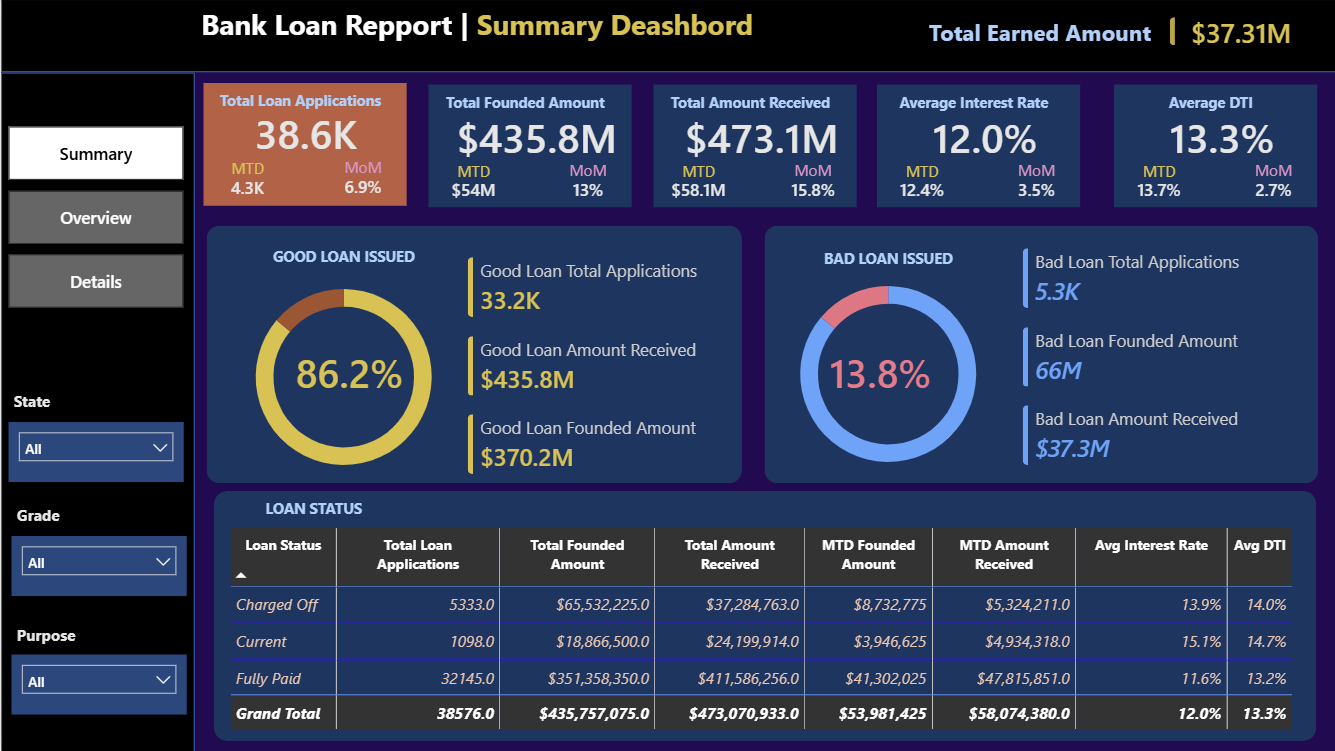

What the dashboard file says about the page in this screenshot:
{"tool":"powerbi","page":{"name":"Summary","canvas":[1280,720],"ordinal":0},"visuals":[{"type":"shape","box":[0,0,1280,70],"z":0},{"type":"shape","box":[194.3,80.5,194.3,117.2],"z":0,"group":"g4"},{"type":"shape","box":[408.3,81.1,194.3,117.2],"z":0,"group":"g1"},{"type":"shape","box":[623.8,81.1,194.3,117.2],"z":0,"group":"g2"},{"type":"shape","box":[837.2,81.1,194.3,117.2],"z":0,"group":"g5"},{"type":"shape","box":[1063.8,81.1,194.3,117.2],"z":0,"group":"g3"},{"type":"shape","box":[0,70,185,650],"z":1000},{"type":"cardVisual","fields":{"Data":["Loan Mesures.Total Loan Amount"]},"box":[397.8,89.1,227,79],"z":1000,"group":"g1"},{"type":"cardVisual","fields":{"Data":["Loan Mesures.Total Amount Received"]},"box":[613.3,89.1,227,79],"z":1000,"group":"g2"},{"type":"cardVisual","fields":{"Data":["Loan Mesures.Avg Interest Rate"]},"box":[826.7,89.1,227,79],"z":1000,"group":"g5"},{"type":"cardVisual","fields":{"Data":["Loan Mesures.Avg DTI"]},"box":[1053.3,89.1,227,79],"z":1000,"group":"g3"},{"type":"cardVisual","title":"MoM","fields":{"Data":["Loan Mesures.MoM Loan Applications"]},"box":[304,151,84,46],"z":1000,"group":"g4"},{"type":"textbox","box":[185.7,0,598.6,65.7],"z":2000},{"type":"textbox","box":[397.8,82.4,205,28.8],"z":2000,"group":"g1"},{"type":"textbox","box":[613.3,82.4,205,28.8],"z":2000,"group":"g2"},{"type":"textbox","box":[826.7,82.4,205,28.8],"z":2000,"group":"g5"},{"type":"textbox","box":[1053.3,82.4,205,28.8],"z":2000,"group":"g3"},{"type":"cardVisual","fields":{"Data":["bank_loan_data.Total Loan Applications"]},"box":[195,86.8,193.5,80],"z":2000,"group":"g4"},{"type":"textbox","box":[183.8,81.8,205,28.8],"z":3000,"group":"g4"},{"type":"cardVisual","title":"MTD","fields":{"Data":["Loan Mesures.MTD Founded Amount"]},"box":[408.6,153.6,83.3,45],"z":3000,"group":"g1"},{"type":"cardVisual","title":"MTD","fields":{"Data":["Loan Mesures.MTD Amount Received"]},"box":[624.1,153.6,83.3,45],"z":3000,"group":"g2"},{"type":"cardVisual","title":"MTD","fields":{"Data":["Loan Mesures.MTD Avg Interest Rate"]},"box":[837.5,153.6,83.3,45],"z":3000,"group":"g5"},{"type":"cardVisual","title":"MTD","fields":{"Data":["Loan Mesures.MTD Avg DTI"]},"box":[1064.1,153.6,83.3,45],"z":3000,"group":"g3"},{"type":"shape","box":[196.2,216.2,511.2,246.2],"z":3000},{"type":"textbox","box":[847.1,11.4,291.4,47.1],"z":4000},{"type":"cardVisual","title":"MoM","fields":{"Data":["Loan Mesures.MoM Founded Amount"]},"box":[518.8,152.1,84,46],"z":4000,"group":"g1"},{"type":"cardVisual","title":"MoM","fields":{"Data":["Loan Mesures.MoM Amount Received"]},"box":[734.3,152.1,84,46],"z":4000,"group":"g2"},{"type":"cardVisual","title":"MoM","fields":{"Data":["Loan Mesures.MoM Avg Interest Rate"]},"box":[947.7,152.1,84,46],"z":4000,"group":"g5"},{"type":"cardVisual","title":"MoM","fields":{"Data":["Loan Mesures.MoM Avg DTI"]},"box":[1174.3,152.1,84,46],"z":4000,"group":"g3"},{"type":"cardVisual","title":"MTD","fields":{"Data":["Loan Mesures.MTD Loan Applications"]},"box":[194,152.4,84.2,45.8],"z":4000,"group":"g4"},{"type":"textbox","box":[225,230,205,28.8],"z":5000},{"type":"group","id":"g1","title":"Group 2","box":[397.8,81.1,227,117.5],"z":6000},{"type":"group","id":"g2","title":"Group 2","box":[613.3,81.1,227.8,117.8],"z":7000},{"type":"group","id":"g3","title":"Group 2","box":[1053.3,81.1,226.7,118.9],"z":8000},{"type":"group","id":"g4","title":"Group 1","box":[183.8,80.5,205,117.7],"z":9000},{"type":"group","id":"g5","title":"Group 2","box":[826.7,81.1,226.7,118.9],"z":10000},{"type":"shape","box":[728.8,216.2,528.8,246.2],"z":11000},{"type":"donutChart","fields":{"Category":["bank_loan_data.good vs bad loan"],"Y":["Loan Mesures.Total Loan Applications"]},"box":[202.5,250,250,220],"z":12000},{"type":"cardVisual","fields":{"Data":["Loan Mesures.Good Loan %"]},"box":[236.2,315,193.8,80],"z":13000},{"type":"cardVisual","fields":{"Data":["Loan Mesures.Good Loan Total Applications","Loan Mesures.Good Loan Amount Received","Loan Mesures.Good Loan Founded Amount"]},"box":[430,230,276.2,240],"z":14000},{"type":"textbox","box":[744.3,232.6,205,28.8],"z":15000},{"type":"donutChart","fields":{"Category":["bank_loan_data.good vs bad loan"],"Y":["Loan Mesures.Total Loan Applications"]},"box":[721.2,247.5,250,220],"z":16000},{"type":"cardVisual","fields":{"Data":["Loan Mesures.Bad Loan Total Applications","Loan Mesures.Bad Loan Founded Amount","Loan Mesures.Bad Loan Amount Received"]},"box":[960,222.7,276.2,240],"z":17000},{"type":"cardVisual","fields":{"Data":["Loan Mesures.Bad Loan %"]},"box":[743.8,315,193.8,80],"z":18000},{"type":"shape","box":[203.8,470,1052.5,238.8],"z":19000},{"type":"tableEx","fields":{"Values":["bank_loan_data.loan_status","Loan Mesures.Total Loan Applications","Loan Mesures.Total Loan Founded Amount","Loan Mesures.Total Amount Received","Loan Mesures.MTD Founded Amount","Loan Mesures.MTD Amount Received","Loan Mesures.Avg Interest Rate","Loan Mesures.Avg DTI"]},"box":[213.8,500,1032.5,207.5],"z":20000},{"type":"textbox","box":[196.2,471.2,205,28.8],"z":21000},{"type":"slicer","fields":{"Values":["bank_loan_data.address_state"]},"box":[7.1,404.3,167.1,57.1],"z":22000},{"type":"textbox","box":[7.1,368.6,185.7,35.7],"z":23000},{"type":"slicer","fields":{"Values":["bank_loan_data.grade"]},"box":[10.5,513.3,167.1,57.1],"z":24000},{"type":"textbox","box":[10.5,477.6,185.7,35.7],"z":25000},{"type":"slicer","fields":{"Values":["bank_loan_data.purpose"]},"box":[9.5,626.7,167.1,57.1],"z":26000},{"type":"textbox","box":[9.5,591,185.7,35.7],"z":27000},{"type":"cardVisual","fields":{"Data":["Loan Mesures.Total Earned Amount"]},"box":[1098.6,0,171.4,61.4],"z":28000},{"type":"pageNavigator","box":[7.1,121.4,167.1,175.7],"z":29000}]}

Visuals, with their boxes in screenshot pixels (x1, y1, x2, y2), scaled from the page's 1280x720 canvas onto the 1335x751 screenshot:
shape: BBox(0, 0, 1334, 73)
shape: BBox(203, 84, 405, 206)
shape: BBox(426, 85, 628, 207)
shape: BBox(651, 85, 853, 207)
shape: BBox(873, 85, 1076, 207)
shape: BBox(1110, 85, 1312, 207)
shape: BBox(0, 73, 193, 750)
cardVisual - Loan Mesures.Total Loan Amount: BBox(415, 93, 652, 175)
cardVisual - Loan Mesures.Total Amount Received: BBox(640, 93, 876, 175)
cardVisual - Loan Mesures.Avg Interest Rate: BBox(862, 93, 1099, 175)
cardVisual - Loan Mesures.Avg DTI: BBox(1099, 93, 1334, 175)
"MoM" cardVisual: BBox(317, 158, 405, 205)
textbox: BBox(194, 0, 818, 69)
textbox: BBox(415, 86, 629, 116)
textbox: BBox(640, 86, 853, 116)
textbox: BBox(862, 86, 1076, 116)
textbox: BBox(1099, 86, 1312, 116)
cardVisual - bank_loan_data.Total Loan Applications: BBox(203, 91, 405, 174)
textbox: BBox(192, 85, 406, 115)
"MTD" cardVisual: BBox(426, 160, 513, 207)
"MTD" cardVisual: BBox(651, 160, 738, 207)
"MTD" cardVisual: BBox(873, 160, 960, 207)
"MTD" cardVisual: BBox(1110, 160, 1197, 207)
shape: BBox(205, 226, 738, 482)
textbox: BBox(883, 12, 1187, 61)
"MoM" cardVisual: BBox(541, 159, 629, 207)
"MoM" cardVisual: BBox(766, 159, 853, 207)
"MoM" cardVisual: BBox(988, 159, 1076, 207)
"MoM" cardVisual: BBox(1225, 159, 1312, 207)
"MTD" cardVisual: BBox(202, 159, 290, 207)
textbox: BBox(235, 240, 448, 270)
"Group 2" group: BBox(415, 85, 652, 207)
"Group 2" group: BBox(640, 85, 877, 207)
"Group 2" group: BBox(1099, 85, 1334, 209)
"Group 1" group: BBox(192, 84, 406, 207)
"Group 2" group: BBox(862, 85, 1099, 209)
shape: BBox(760, 226, 1312, 482)
donutChart - bank_loan_data.good vs bad loan x Loan Mesures.Total Loan Applications: BBox(211, 261, 472, 490)
cardVisual - Loan Mesures.Good Loan %: BBox(246, 329, 448, 412)
cardVisual - Loan Mesures.Good Loan Total Applications x Loan Mesures.Good Loan Amount Received: BBox(448, 240, 737, 490)
textbox: BBox(776, 243, 990, 273)
donutChart - bank_loan_data.good vs bad loan x Loan Mesures.Total Loan Applications: BBox(752, 258, 1013, 488)
cardVisual - Loan Mesures.Bad Loan Total Applications x Loan Mesures.Bad Loan Founded Amount: BBox(1001, 232, 1289, 483)
cardVisual - Loan Mesures.Bad Loan %: BBox(776, 329, 978, 412)
shape: BBox(213, 490, 1310, 739)
tableEx - bank_loan_data.loan_status x Loan Mesures.Total Loan Applications: BBox(223, 522, 1300, 738)
textbox: BBox(205, 491, 418, 522)
slicer - bank_loan_data.address_state: BBox(7, 422, 182, 481)
textbox: BBox(7, 384, 201, 422)
slicer - bank_loan_data.grade: BBox(11, 535, 185, 595)
textbox: BBox(11, 498, 205, 535)
slicer - bank_loan_data.purpose: BBox(10, 654, 184, 713)
textbox: BBox(10, 616, 204, 654)
cardVisual - Loan Mesures.Total Earned Amount: BBox(1146, 0, 1325, 64)
pageNavigator: BBox(7, 127, 182, 310)
